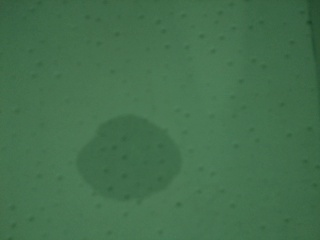Water_detected: (81, 129, 165, 201)
